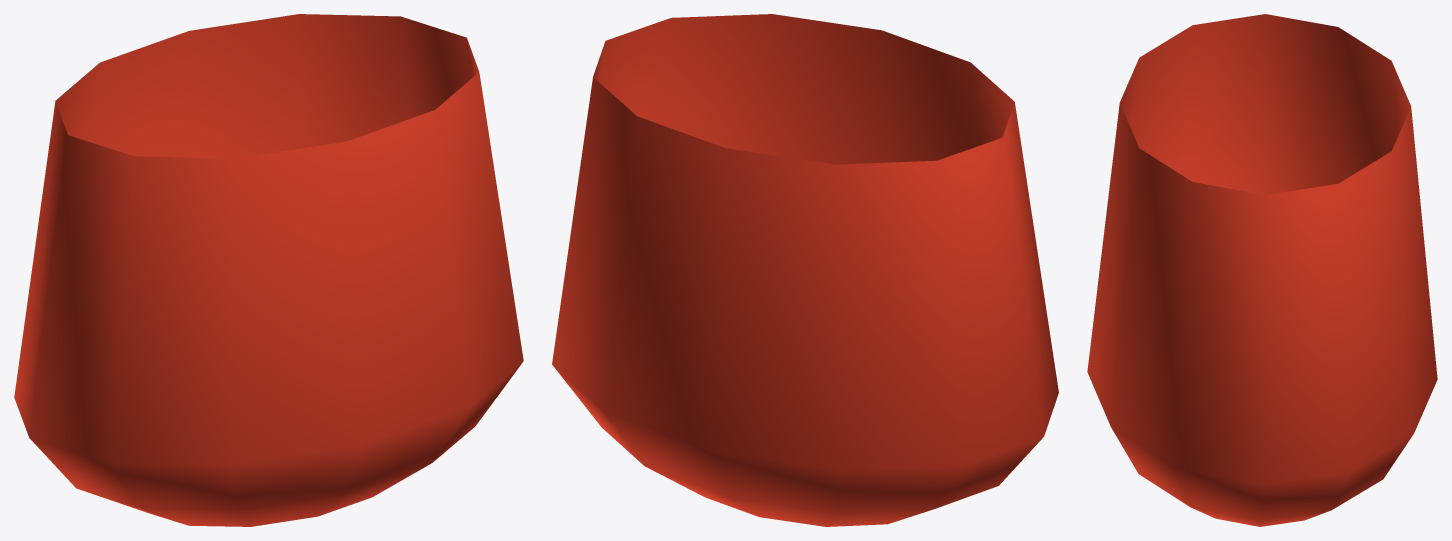
The model's file is reimu_dress_under.glb.
3 views of the same model, side by side, from view 1: azimuth 30°, elevation 25°; view 2: azimuth 150°, elevation 25°; view 3: azimuth 270°, elevation 25° (orthographic). The views are drawn at different scales.
Parts seen in each view (by area): view 1: reimu_dress_under; view 2: reimu_dress_under; view 3: reimu_dress_under.
Part boxes in pixels (x1,y1,x2,y2): reimu_dress_under: (14,14,523,526); reimu_dress_under: (552,14,1058,526); reimu_dress_under: (1087,14,1437,526).
Bounding box in the file's own units: 0.7851 × 0.6498 × 0.5342.
